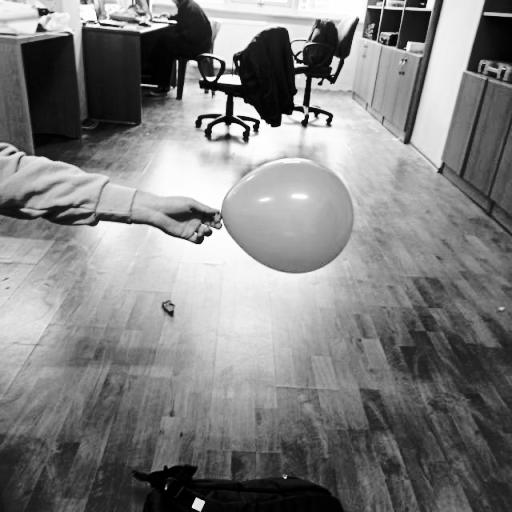balloon: (224, 158, 356, 278)
